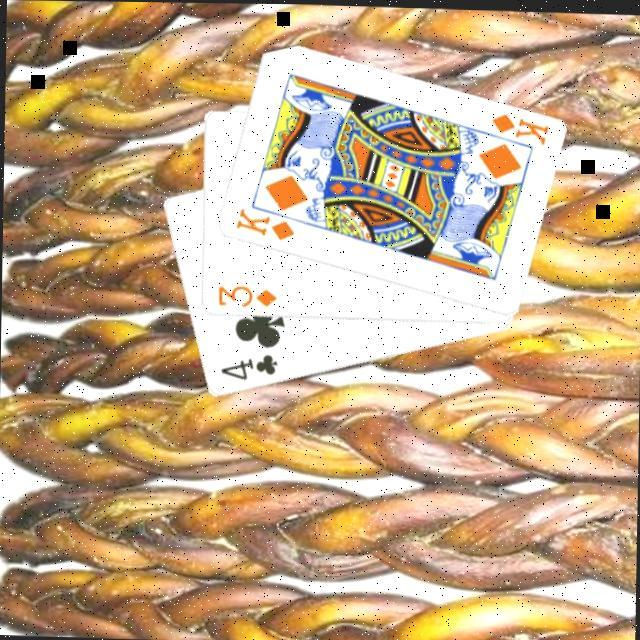3D: (213, 282, 277, 312)
4C: (213, 350, 278, 386)
KD: (484, 109, 550, 148), (230, 206, 294, 245)
